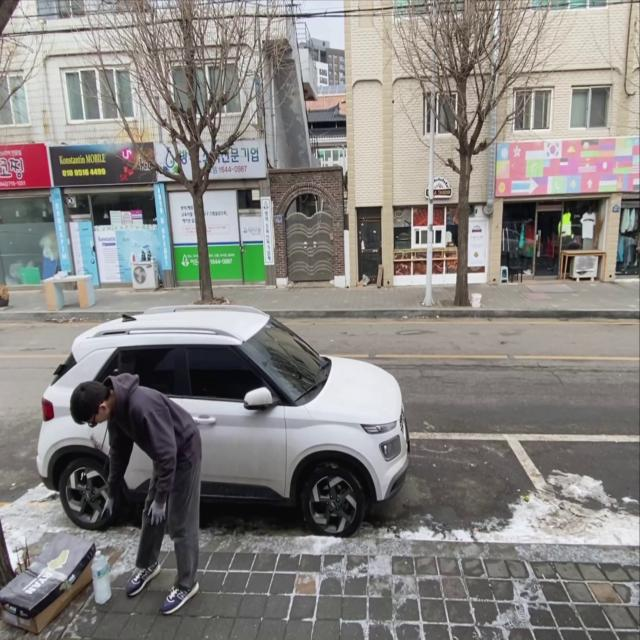gloved_hand: (145, 498, 168, 531), (98, 497, 116, 521)
